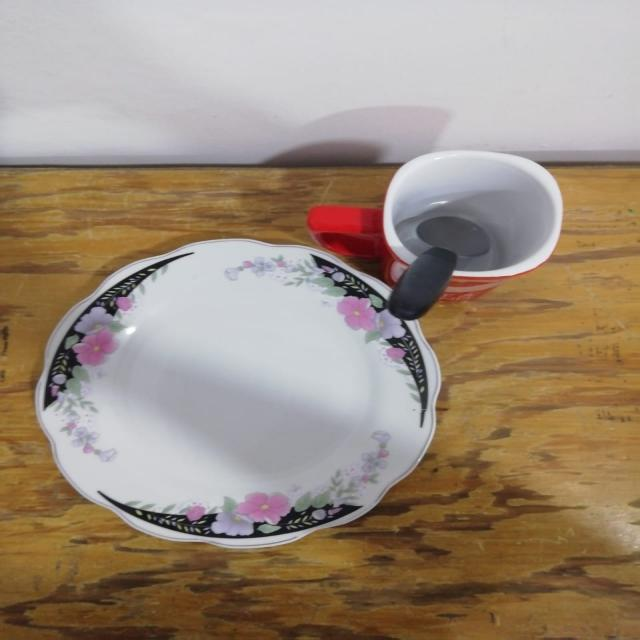non-organic waste: (47, 230, 447, 578)
